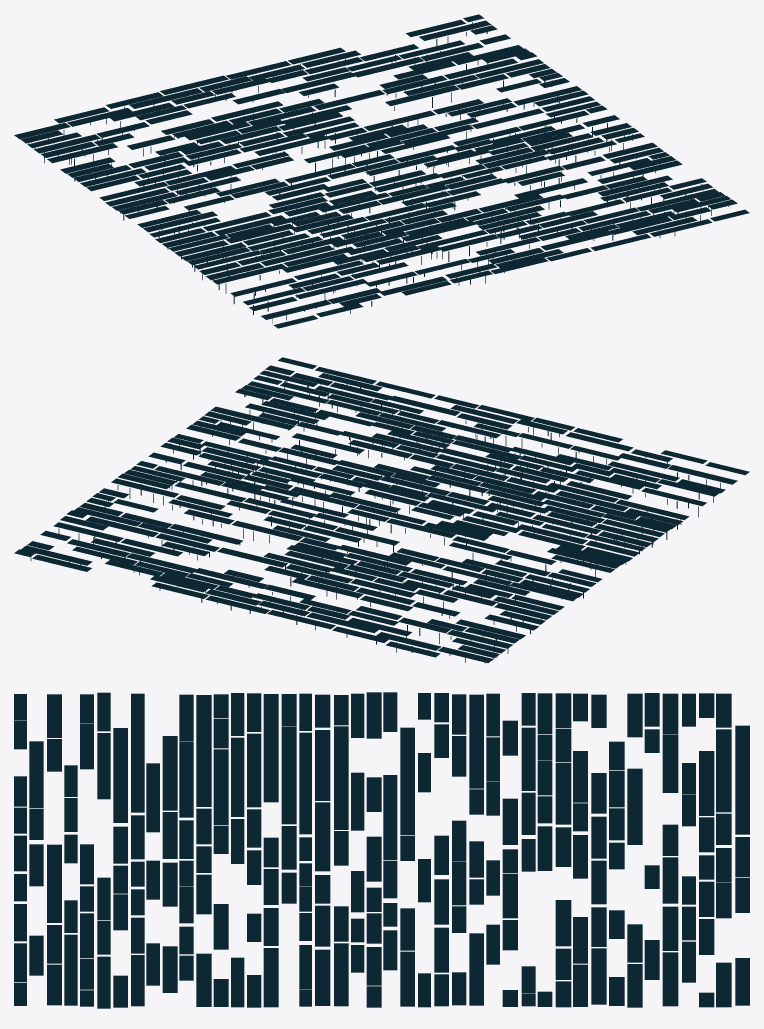
The model's file is floor_v4_16.glb.
The picture shows the model from 3 angles, top to bottom: view 1: azimuth 30°, elevation 25°; view 2: azimuth 150°, elevation 25°; view 3: azimuth 270°, elevation 25°; orthographic projection. The views are drawn at different scales.
Parts seen in each view (by area): view 1: stripes_plates, stripes_streaks_hang; view 2: stripes_plates, stripes_streaks_hang; view 3: stripes_plates.
Part boxes in pixels (bbox=[...]): stripes_plates: bbox=[14, 14, 749, 328]; stripes_streaks_hang: bbox=[28, 22, 728, 323]; stripes_plates: bbox=[14, 357, 749, 662]; stripes_streaks_hang: bbox=[30, 371, 720, 663]; stripes_plates: bbox=[14, 692, 749, 1008].
Bounding box in the file's own units: 16 × 0.49 × 15.91.
